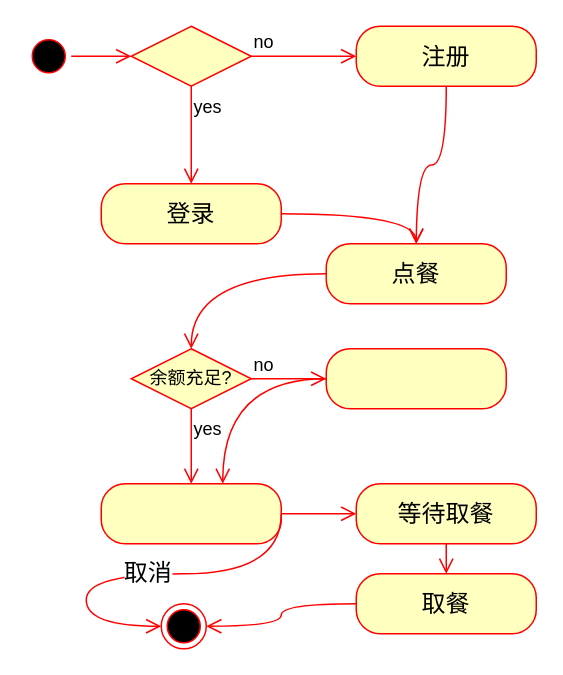
Some shapes in this 563 by 675 pixel diagram are drawn without their labels. Each missing label, with the centre of its shape:
"充值" goes at (x=415, y=378).
"已注册?" goes at (x=190, y=55).
"结算" goes at (x=190, y=513).
